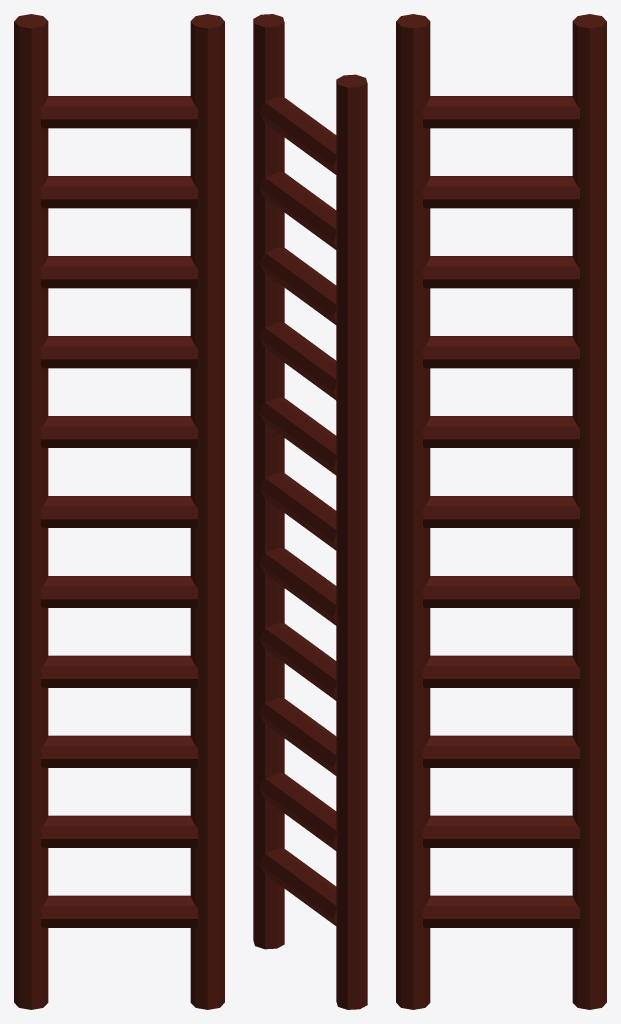
File: Ladder.fbx
3 renders of one model, left to right at view 1: azimuth 90°, elevation 25°; view 2: azimuth 210°, elevation 25°; view 3: azimuth 270°, elevation 25°, orthographic. The views are drawn at different scales.
Parts seen in each view (by area): view 1: Cylinder, Cylinder.001, Cylinder.011, Cylinder.009, Cylinder.010, Cylinder.005, Cylinder.006, Cylinder.007, Cylinder.008, Cylinder.004, Cylinder.003, Cylinder.002 (+1 smaller); view 2: Cylinder, Cylinder.001, Cylinder.006, Cylinder.010, Cylinder.005, Cylinder.007, Cylinder.008, Cylinder.009, Cylinder.011, Cylinder.003, Cylinder.004, Cylinder.002 (+1 smaller); view 3: Cylinder, Cylinder.001, Cylinder.011, Cylinder.009, Cylinder.010, Cylinder.005, Cylinder.006, Cylinder.007, Cylinder.008, Cylinder.004, Cylinder.003, Cylinder.002 (+1 smaller).
Boxes of the visible parts, x1,y1,x2,y2 form: Cylinder: (14,14,48,1009); Cylinder.001: (190,14,224,1009); Cylinder.011: (41,336,197,368); Cylinder.009: (41,176,197,208); Cylinder.010: (41,256,197,288); Cylinder.005: (41,735,197,767); Cylinder.006: (41,815,197,847); Cylinder.007: (41,895,197,927); Cylinder.008: (41,96,197,128); Cylinder.004: (41,655,197,687); Cylinder.003: (41,576,197,607); Cylinder.002: (41,496,197,527); Cylinder: (336,74,367,1009); Cylinder.001: (253,14,284,949); Cylinder.006: (259,773,336,850); Cylinder.010: (259,247,336,324); Cylinder.005: (259,698,336,775); Cylinder.007: (259,848,336,925); Cylinder.008: (259,97,336,174); Cylinder.009: (259,172,336,249); Cylinder.011: (259,322,336,400); Cylinder.003: (259,548,336,625); Cylinder.004: (259,623,336,700); Cylinder.002: (259,473,336,550); Cylinder: (572,14,606,1009); Cylinder.001: (396,14,430,1009); Cylinder.011: (423,336,579,368); Cylinder.009: (423,176,579,208); Cylinder.010: (423,256,579,288); Cylinder.005: (423,735,579,767); Cylinder.006: (423,815,579,847); Cylinder.007: (423,895,579,927); Cylinder.008: (423,96,579,128); Cylinder.004: (423,655,579,687); Cylinder.003: (423,576,579,607); Cylinder.002: (423,496,579,527).
Size of the model in its own units: 38.9 by 1228 by 239.
